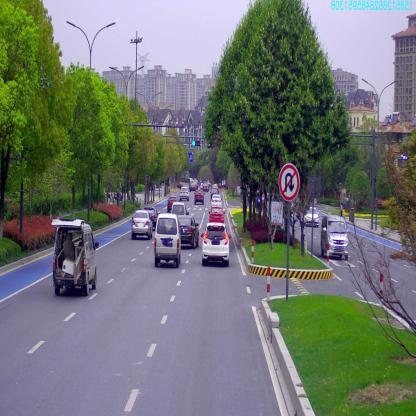traffic-light: (191, 140, 201, 146)
